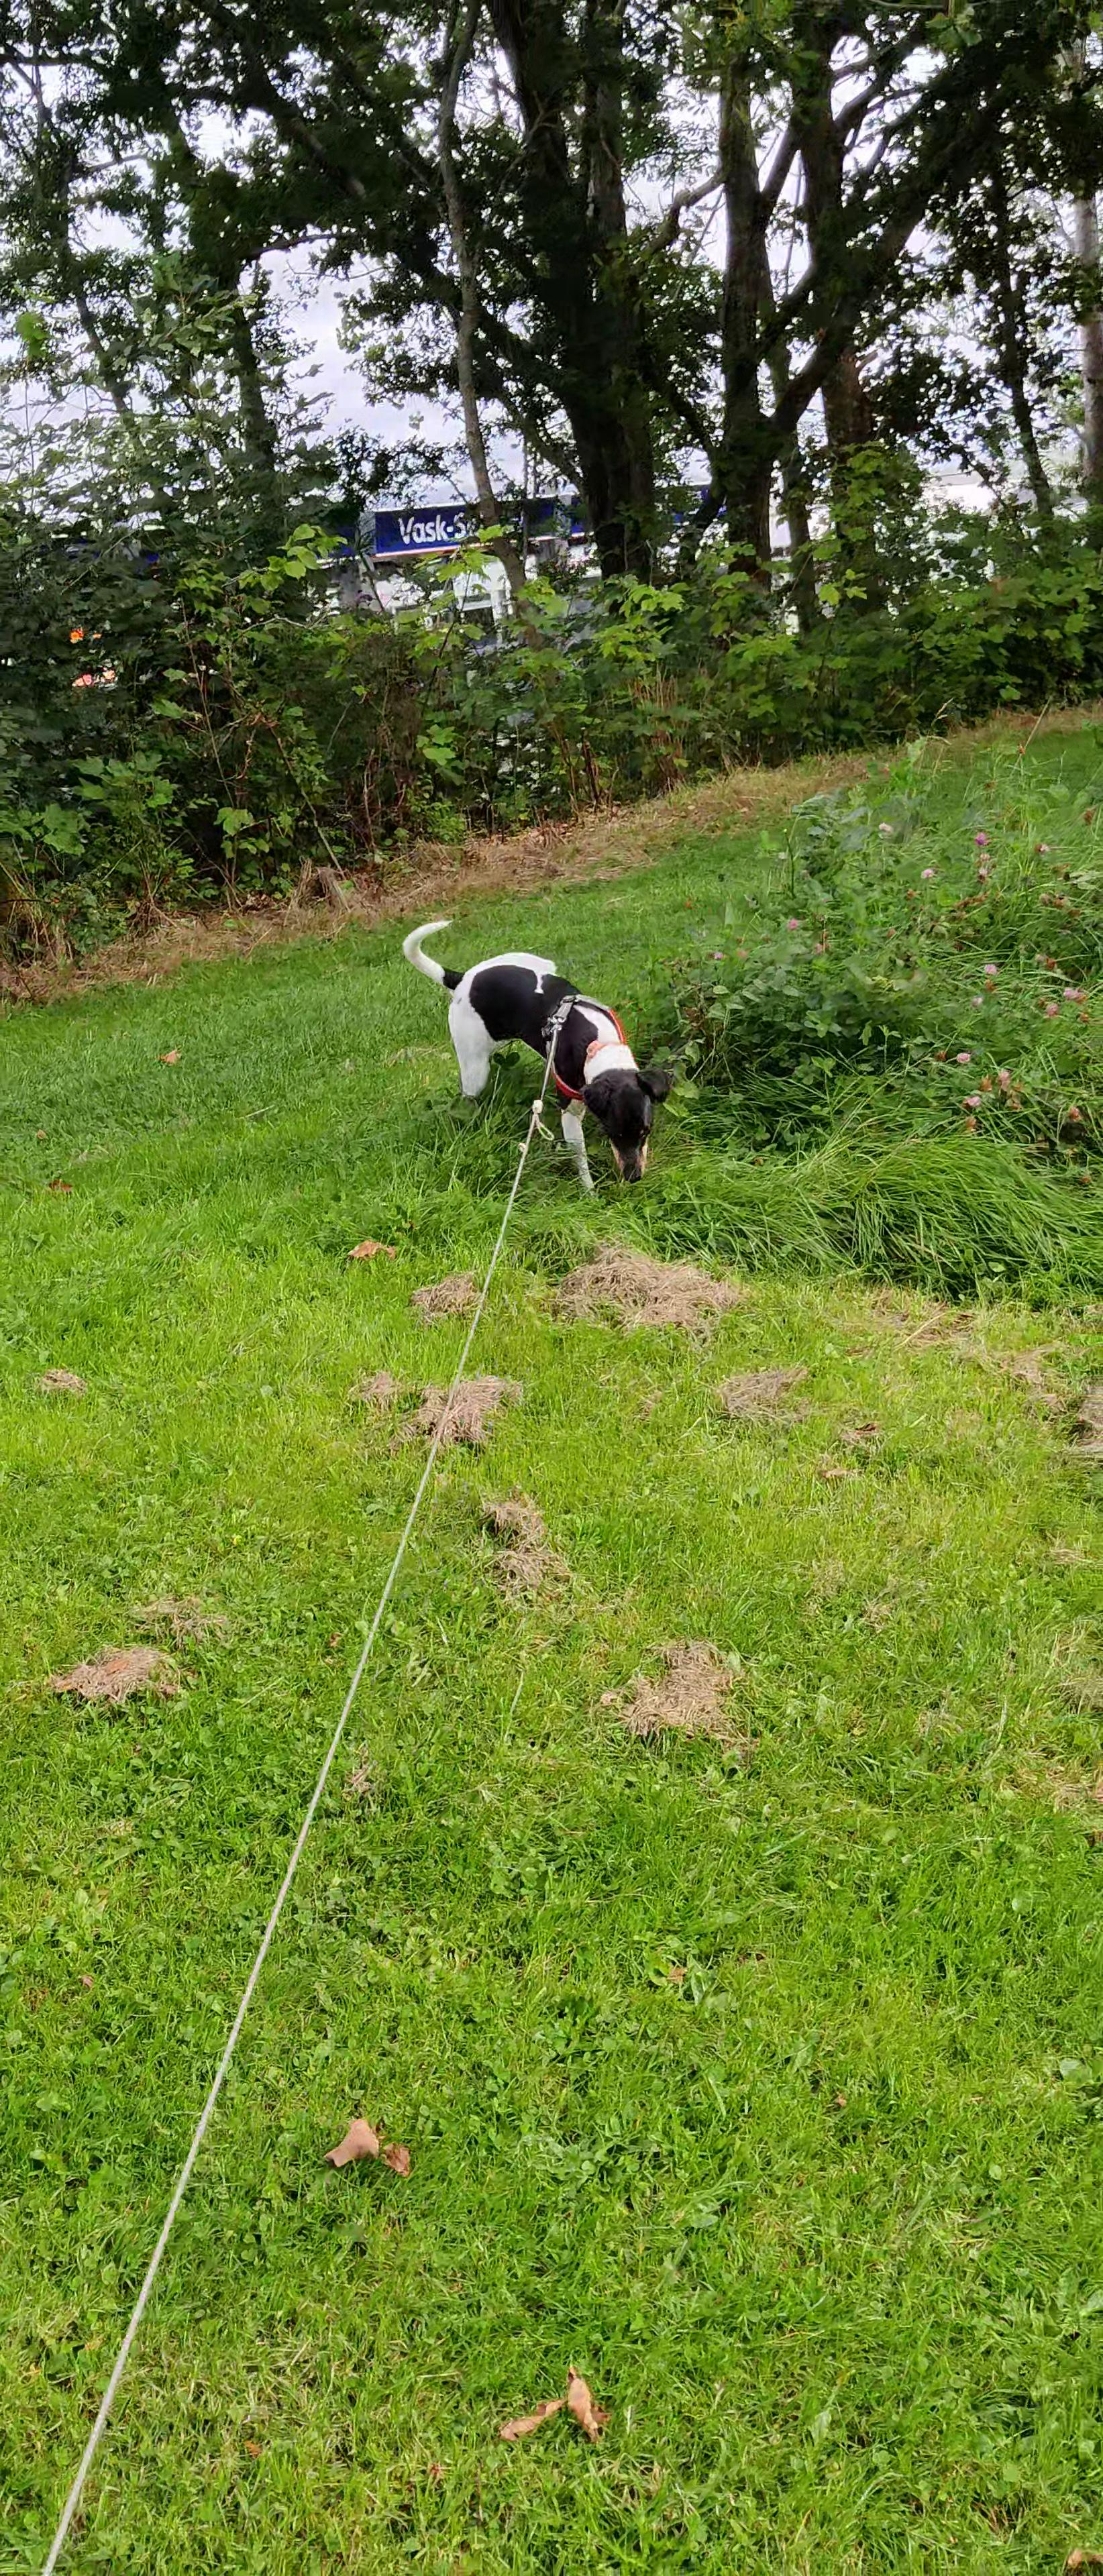Dog: (395, 900, 679, 1201)
